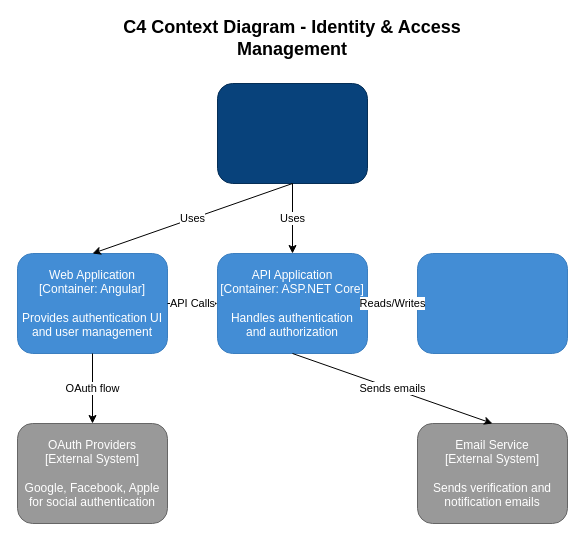
The diagram is 585 pixels wide and 541 high, and some of its shapes have lost their labels. Each missing label, with the centre of its shape:
Database [Container: SQL Server] Stores user accounts, sessions, and preferences: the point at 492,303
User [Person] A user of the CoursesPlatform who wants to learn or teach: the point at 292,133
